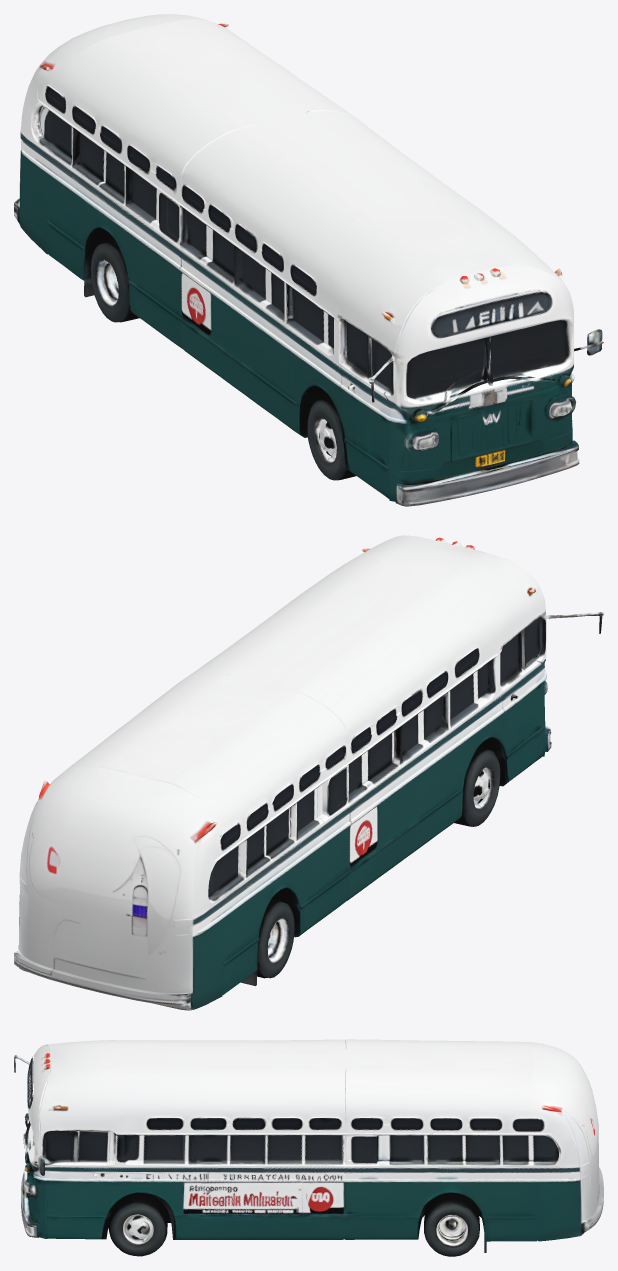
The model's file is vehicle_bus_transit_1960s_lod0.glb.
3 renders of one model, top to bottom at view 1: azimuth 30°, elevation 25°; view 2: azimuth 150°, elevation 25°; view 3: azimuth 270°, elevation 25°, orthographic. The views are drawn at different scales.
Visible parts, largest first — view 1: vehicle_bus_transit_1960s; view 2: vehicle_bus_transit_1960s; view 3: vehicle_bus_transit_1960s.
Boxes of the visible parts, x1,y1,x2,y2 form: vehicle_bus_transit_1960s: [14, 14, 603, 506]; vehicle_bus_transit_1960s: [14, 535, 603, 1010]; vehicle_bus_transit_1960s: [14, 1039, 603, 1256].
Bounding box in the file's own units: 4.28 × 3.79 × 12.
Materials: 1 (1 with a texture image).
